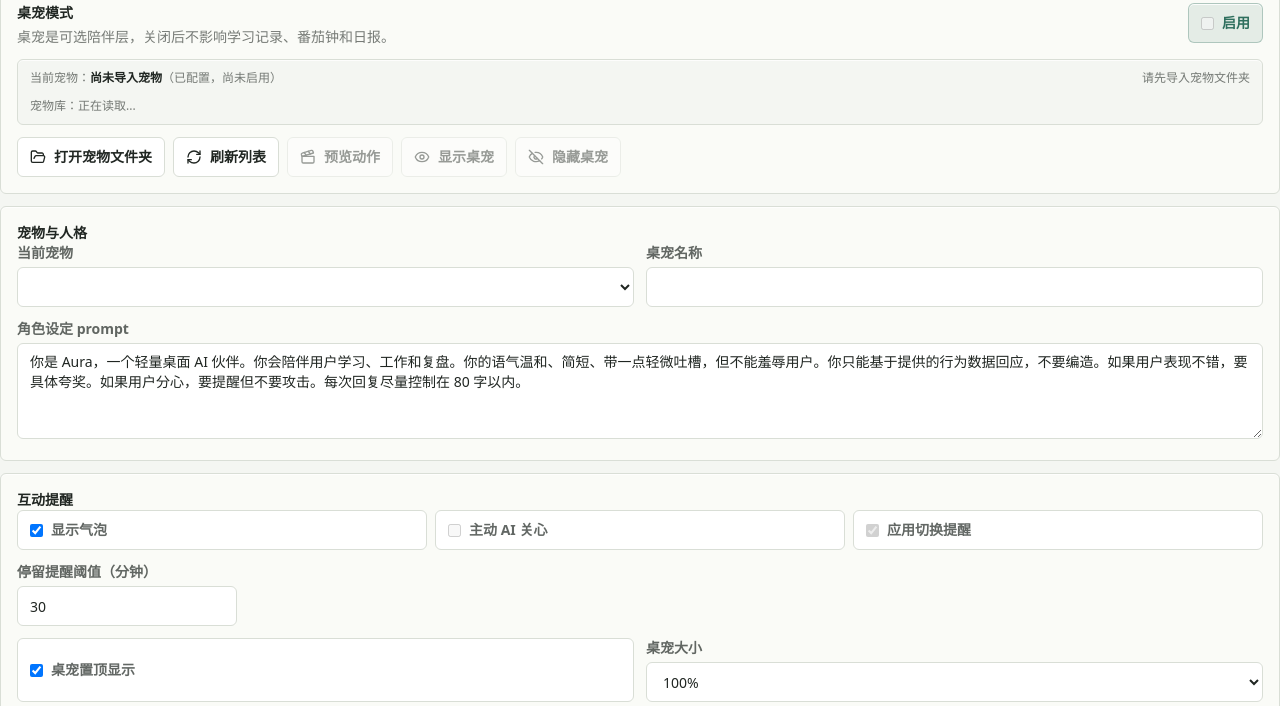
Test: PetSettingsPanel › shows refreshed pet profiles and scan messages
Click the button "刷新列表": (226, 157) x1=173 y1=137 x2=279 y2=177
(page scrolled)
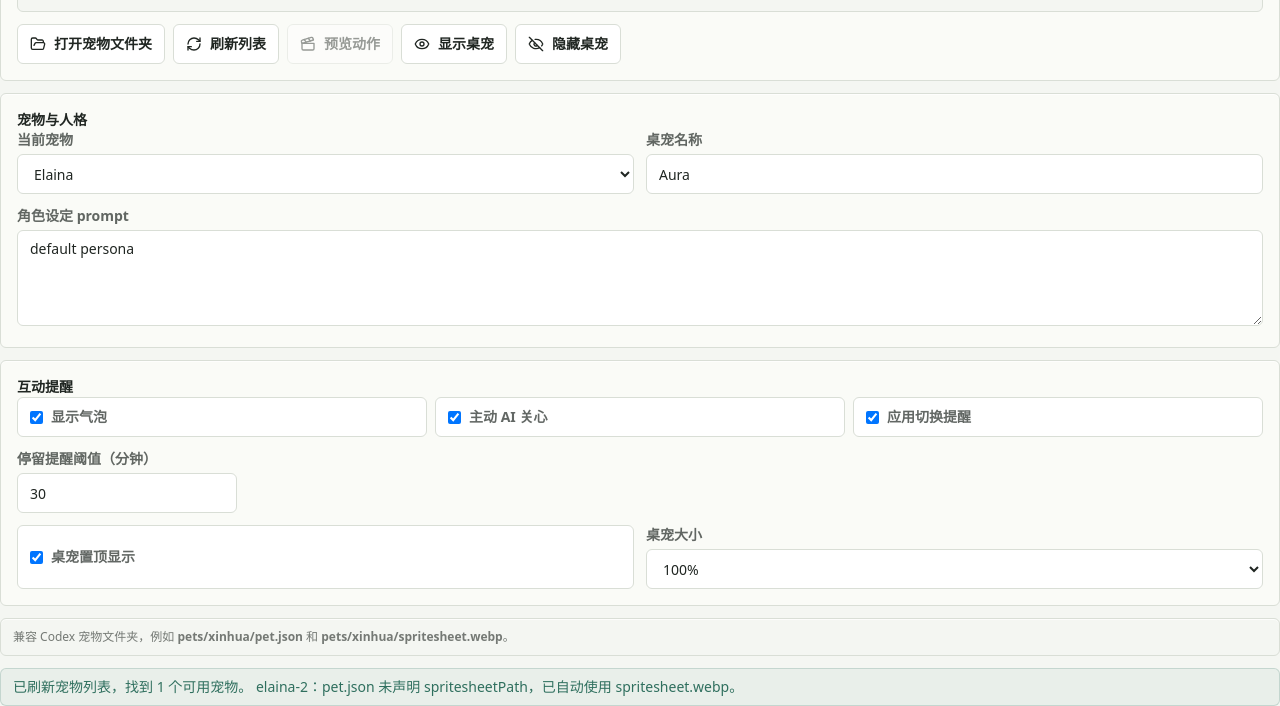
Check: the text "已自动使用 spritesheet.webp" is shown, box x1=13 y1=677 x2=743 y2=696
